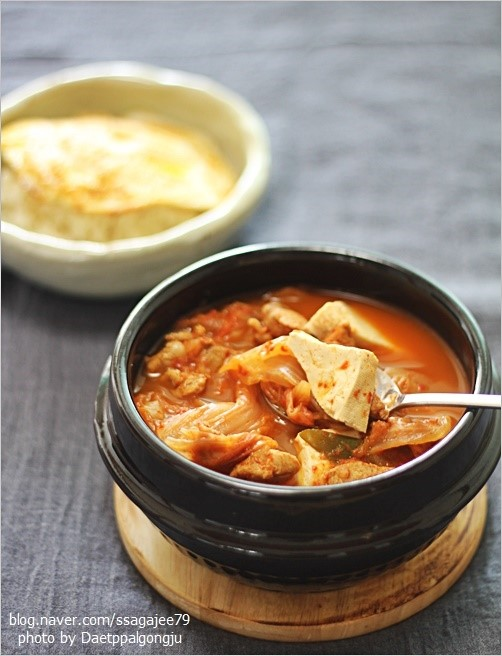gimchijjigae: (130, 285, 473, 488)
